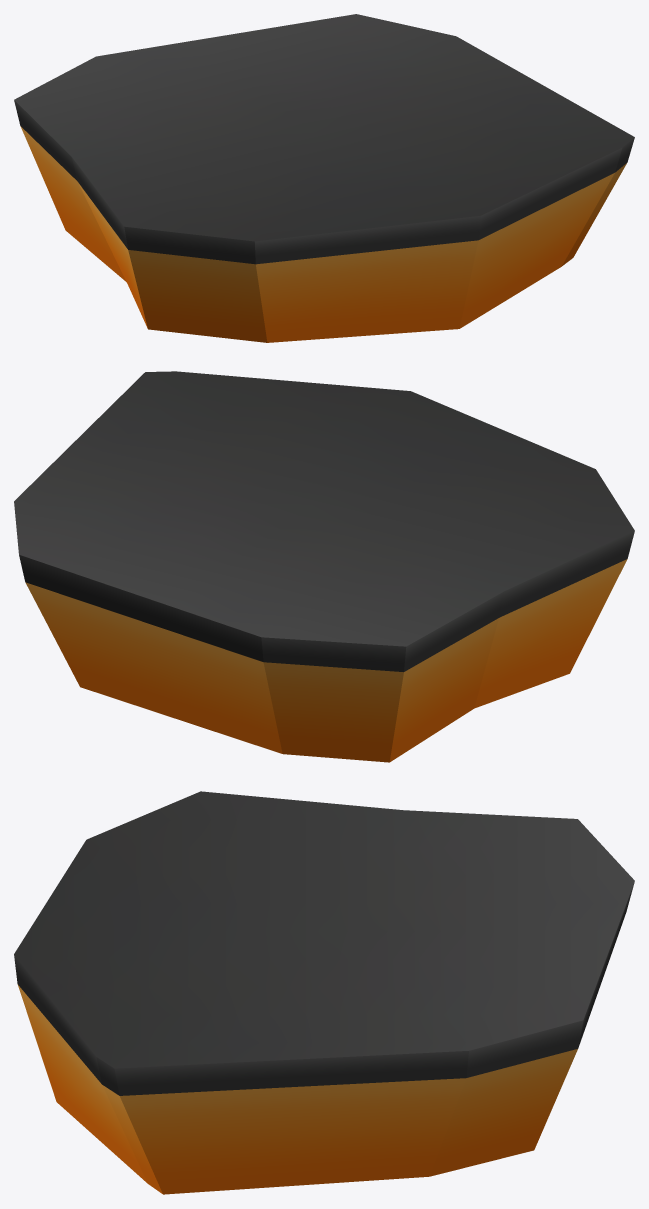
File: W3_PLATFORM_5.fbx
3 views of the same model, one above another, from view 1: azimuth 30°, elevation 25°; view 2: azimuth 150°, elevation 25°; view 3: azimuth 270°, elevation 25° (orthographic). The views are drawn at different scales.
Parts seen in each view (by area): view 1: W3_PLATFORM_5; view 2: W3_PLATFORM_5; view 3: W3_PLATFORM_5.
Boxes of the visible parts, x1,y1,x2,y2 form: W3_PLATFORM_5: [14, 14, 634, 342]; W3_PLATFORM_5: [14, 371, 634, 762]; W3_PLATFORM_5: [14, 791, 634, 1194].
Size of the model in its own units: 987 by 249 by 934.
